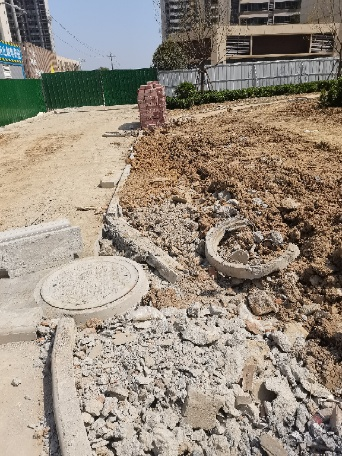good: (35, 255, 145, 312)
